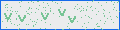v: (40, 12, 50, 22), (3, 12, 13, 21), (57, 8, 67, 17), (67, 15, 77, 24), (18, 14, 26, 23)
